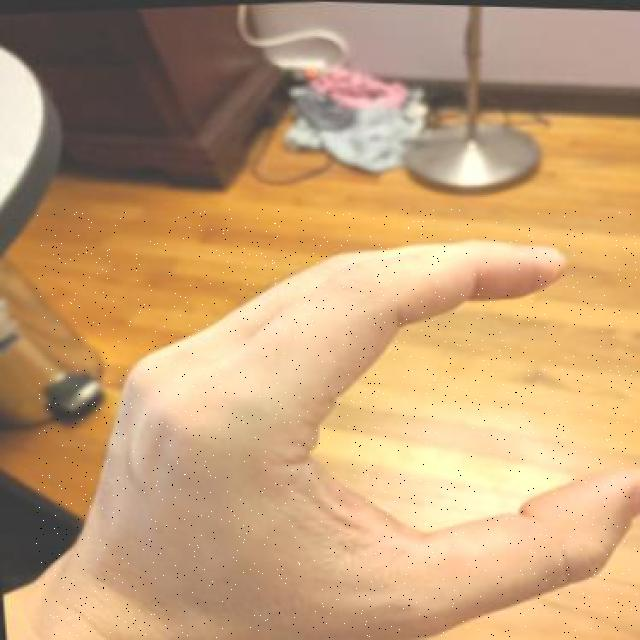C: (36, 209, 638, 638)
